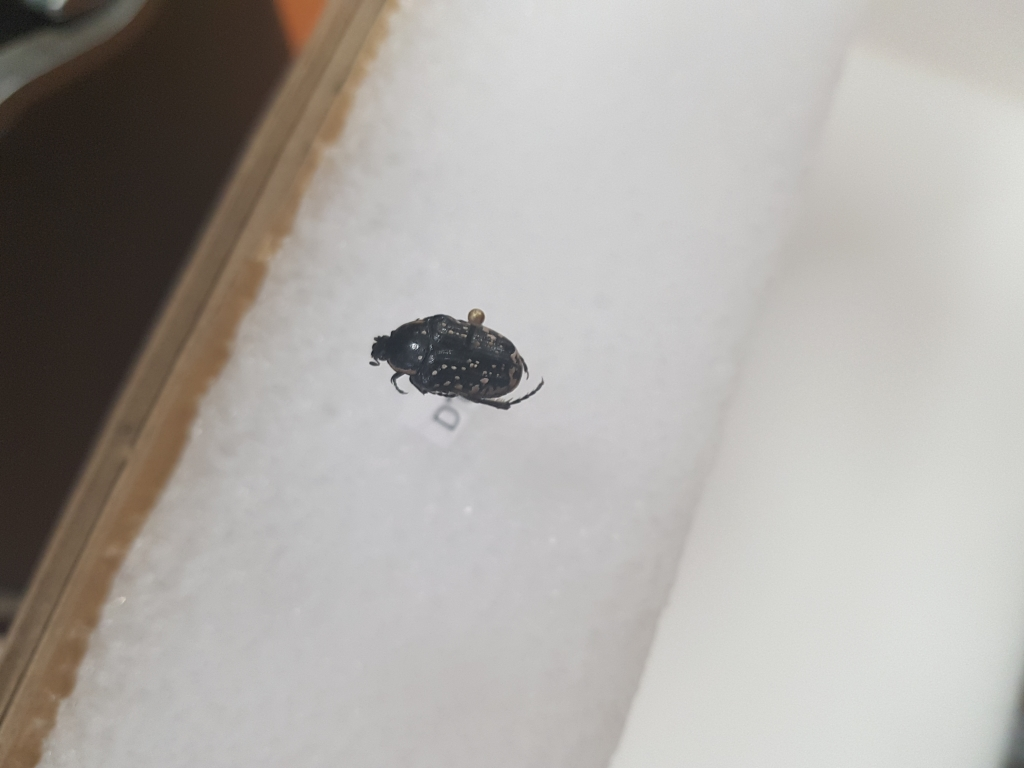Oxythyrea_cinctella: (363, 312, 548, 415)
